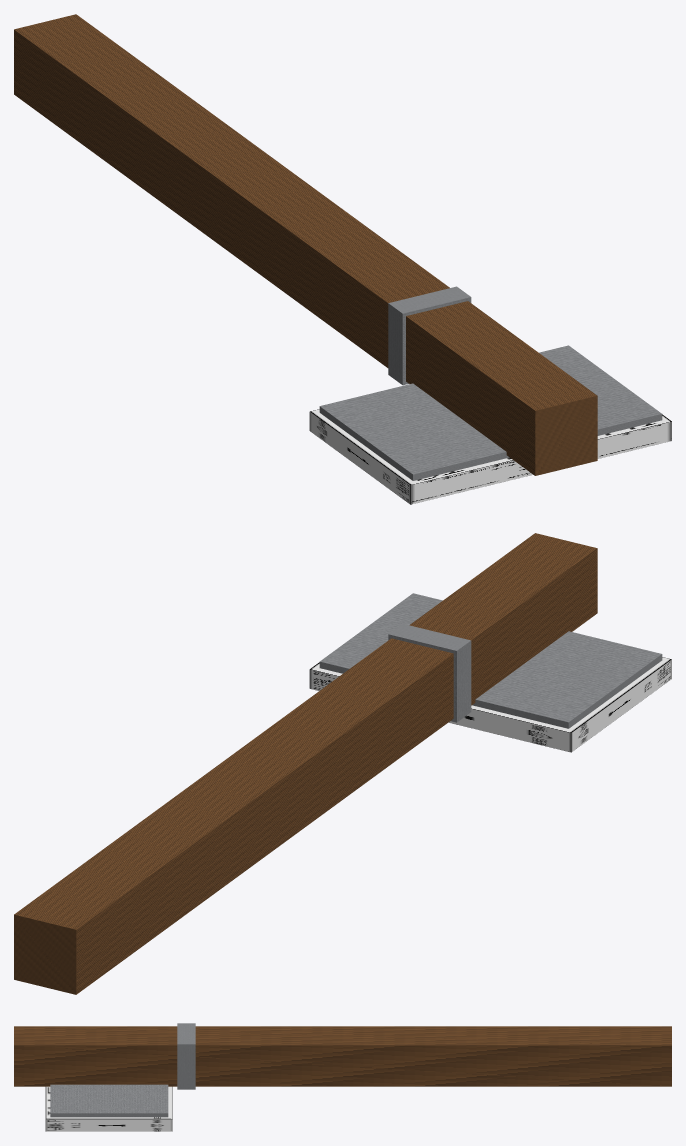
The model's file is milemarker_01.obj.
The picture shows the model from 3 angles, top to bottom: view 1: azimuth 30°, elevation 25°; view 2: azimuth 150°, elevation 25°; view 3: azimuth 270°, elevation 25°; orthographic projection. The views are drawn at different scales.
Visible parts, largest first — view 1: milemarker_01; view 2: milemarker_01; view 3: milemarker_01.
Part boxes in pixels (x1,y1,x2,y2): milemarker_01: [14, 14, 671, 504]; milemarker_01: [14, 533, 671, 994]; milemarker_01: [14, 1023, 671, 1131].
Bounding box in the file's own units: 0.42 × 0.14 × 1.45.
3 materials, 3 textured.
